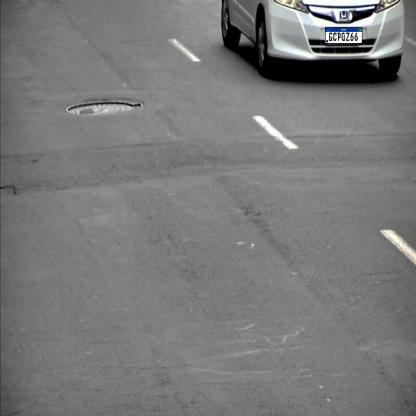PlacaM: (325, 27, 362, 44)
